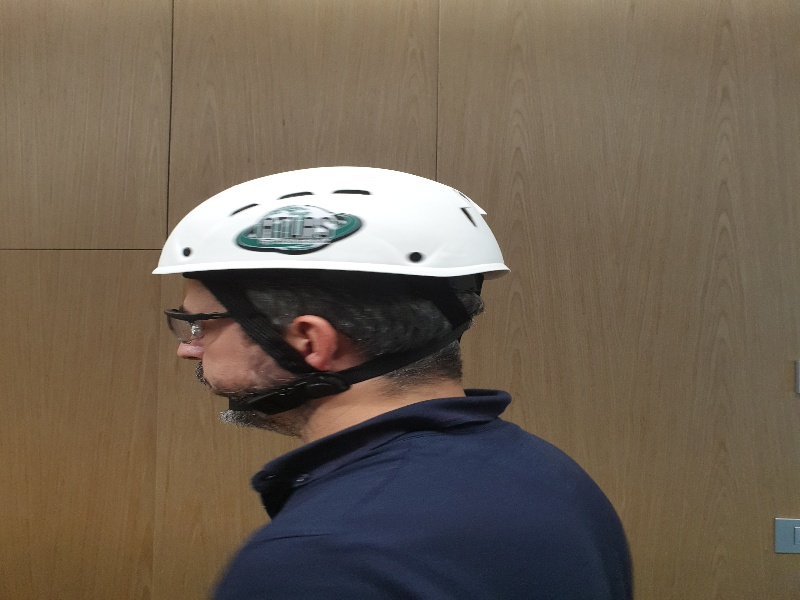Baret: (153, 164, 512, 280)
